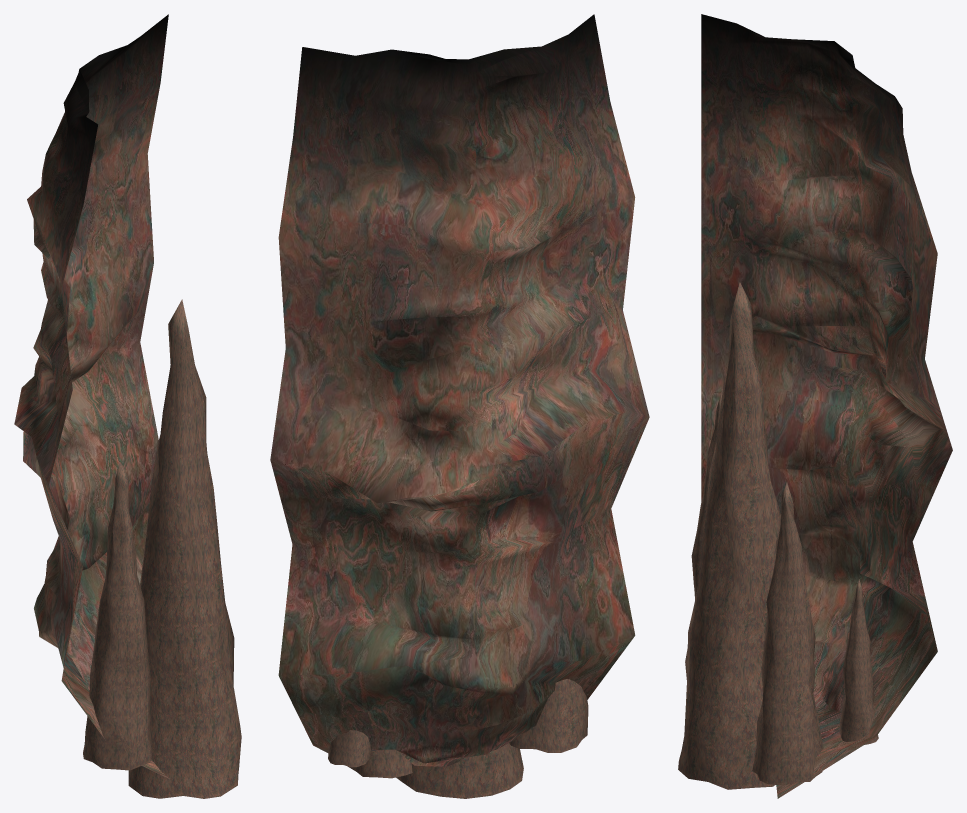
File: cave_walls_concave_stalag.glb
The picture shows the model from 3 angles, left to right: view 1: azimuth 30°, elevation 25°; view 2: azimuth 150°, elevation 25°; view 3: azimuth 270°, elevation 25°; orthographic projection. The views are drawn at different scales.
Parts seen in each view (by area): view 1: cave_concave_stalag-col; view 2: cave_concave_stalag-col; view 3: cave_concave_stalag-col.
Part boxes in pixels (x1,y1,x2,y2): cave_concave_stalag-col: (14,14,241,798); cave_concave_stalag-col: (270,14,649,798); cave_concave_stalag-col: (678,14,952,798).
Bounding box in the file's own units: 1.38 × 4.07 × 1.43.
2 materials, 2 textured.
